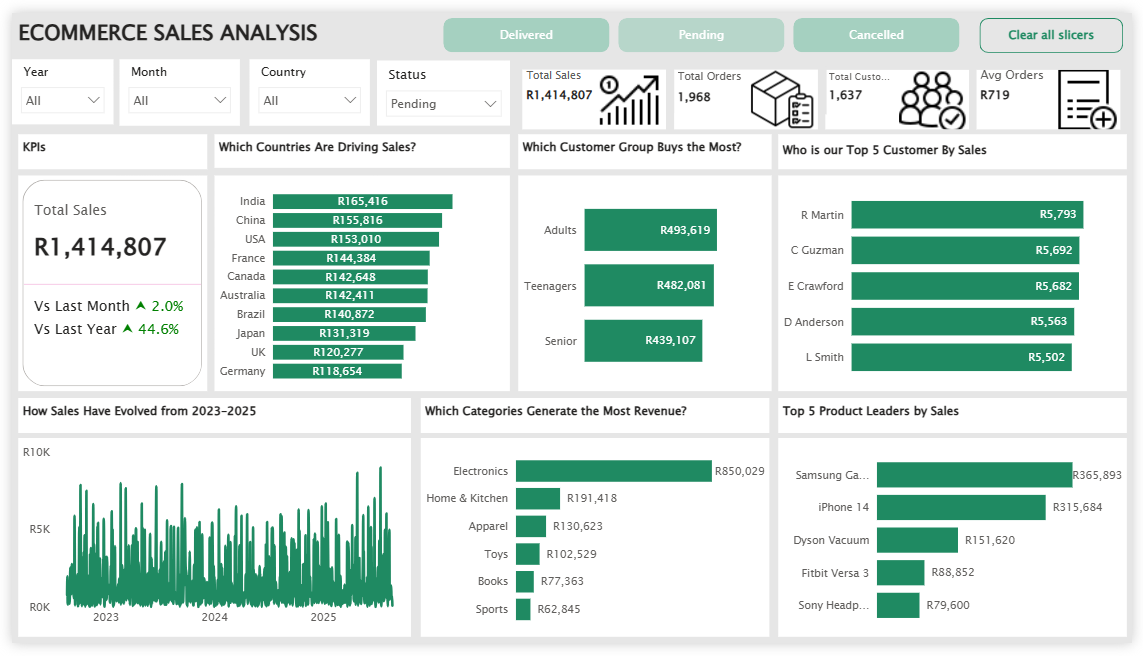

This screenshot's page, from the dashboard's own definition file:
{"tool":"powerbi","page":{"name":"Overview","canvas":[1280,720],"ordinal":0},"visuals":[{"type":"cardVisual","fields":{"Data":["My Measures.Total Sales","My Measures.Total Orders","My Measures.Total Customers","My Measures.Avg Order Values"]},"box":[577.9,53.1,702.1,74.8],"z":0,"group":"g1"},{"type":"barChart","fields":{"Category":["eCommerceData.country"],"Y":["My Measures.Total Sales"]},"box":[231.6,185.8,337.8,246.1],"z":0},{"type":"group","id":"g1","title":"Group 1","box":[577.9,53.1,702.1,74.8],"z":1000},{"type":"barChart","fields":{"Y":["My Measures.Total Sales"],"Category":["eCommerceData.category"]},"box":[466.9,486.2,398.1,226.8],"z":2000},{"type":"barChart","fields":{"Y":["My Measures.Total Sales"],"Category":["eCommerceData.product_name"]},"box":[875.9,486.2,398.1,226.8],"z":3000},{"type":"shape","box":[702.3,60.9,105.7,54.3],"z":3500,"group":"g1"},{"type":"shape","box":[1051.9,61.5,107.7,54.3],"z":4000,"group":"g1"},{"type":"barChart","fields":{"Y":["My Measures.Total Sales"],"Category":["eCommerceData.Full Name"]},"box":[875.9,185.8,398.1,246.1],"z":4000},{"type":"shape","box":[877.1,62.2,105.7,54.3],"z":4500,"group":"g1"},{"type":"lineChart","fields":{"Y":["My Measures.Total Sales"],"Category":["DateTable.Date"]},"box":[7.2,486.2,448.8,226.8],"z":5000},{"type":"slicer","fields":{"Values":["eCommerceData.country"]},"box":[271.4,53.1,137.5,76],"z":6000},{"type":"slicer","fields":{"Values":["DateTable.Year"]},"box":[0,53.1,115.8,74.8],"z":7000},{"type":"slicer","fields":{"Values":["DateTable.Month Name"]},"box":[123.1,53.1,137.5,76],"z":8000},{"type":"cardVisual","fields":{"Data":["My Measures.Total Sales"]},"box":[7.2,185.8,216,246.1],"z":9000},{"type":"textbox","box":[7.2,138.7,216,39.8],"z":10000},{"type":"textbox","box":[231.6,138.7,337.8,38.6],"z":11000},{"type":"textbox","box":[466.9,440.4,398.1,39.8],"z":12000},{"type":"textbox","box":[7.2,440.4,448.8,39.8],"z":13000},{"type":"textbox","box":[875.9,440.4,398.1,39.8],"z":14000},{"type":"textbox","box":[875.9,138.7,398.1,39.8],"z":15000},{"type":"clusteredBarChart","fields":{"Category":["eCommerceData.age_group"],"Y":["My Measures.Total Sales"]},"box":[577.9,185.8,289.5,246.1],"z":16000},{"type":"textbox","box":[577.9,138.7,289.5,39.8],"z":17000},{"type":"textbox","box":[7.2,0,435.5,54.3],"z":18000},{"type":"slicer","fields":{"Values":["eCommerceData.Group Status"]},"box":[417.4,54.3,152,74.8],"z":19000},{"type":"actionButton","box":[1106.3,6,164.1,39.8],"z":20000},{"type":"bookmarkNavigator","box":[493.4,6,591.2,39.8],"z":21000}]}

Visuals, with their boxes in screenshot pixels (x1, y1, x2, y2), scaled from the page's 1280x720 canvas onto the 1143x656 screenshot:
cardVisual - My Measures.Total Sales x My Measures.Total Orders: BBox(516, 48, 1142, 117)
barChart - eCommerceData.country x My Measures.Total Sales: BBox(207, 169, 508, 394)
"Group 1" group: BBox(516, 48, 1142, 117)
barChart - My Measures.Total Sales x eCommerceData.category: BBox(417, 443, 772, 650)
barChart - My Measures.Total Sales x eCommerceData.product_name: BBox(782, 443, 1138, 650)
shape: BBox(627, 55, 722, 105)
shape: BBox(939, 56, 1035, 106)
barChart - My Measures.Total Sales x eCommerceData.Full Name: BBox(782, 169, 1138, 394)
shape: BBox(783, 57, 878, 106)
lineChart - My Measures.Total Sales x DateTable.Date: BBox(6, 443, 407, 650)
slicer - eCommerceData.country: BBox(242, 48, 365, 118)
slicer - DateTable.Year: BBox(0, 48, 103, 117)
slicer - DateTable.Month Name: BBox(110, 48, 233, 118)
cardVisual - My Measures.Total Sales: BBox(6, 169, 199, 394)
textbox: BBox(6, 126, 199, 163)
textbox: BBox(207, 126, 508, 162)
textbox: BBox(417, 401, 772, 438)
textbox: BBox(6, 401, 407, 438)
textbox: BBox(782, 401, 1138, 438)
textbox: BBox(782, 126, 1138, 163)
clusteredBarChart - eCommerceData.age_group x My Measures.Total Sales: BBox(516, 169, 775, 394)
textbox: BBox(516, 126, 775, 163)
textbox: BBox(6, 0, 395, 49)
slicer - eCommerceData.Group Status: BBox(373, 49, 508, 118)
actionButton: BBox(988, 5, 1134, 42)
bookmarkNavigator: BBox(441, 5, 969, 42)
